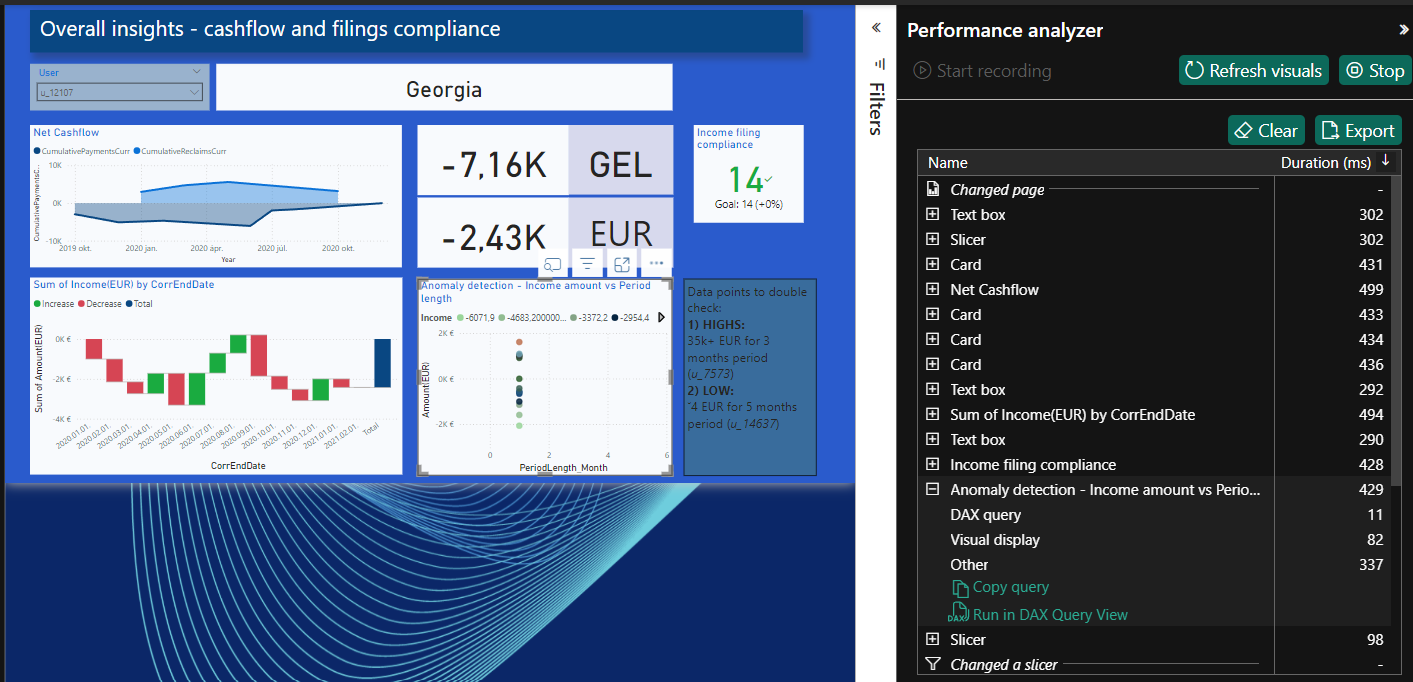

This screenshot's page, from the dashboard's own definition file:
{"tool":"powerbi","page":{"name":"Ins_User","canvas":[1280,720],"ordinal":4},"visuals":[{"type":"slicer","fields":{"Values":["DATA.UserName"]},"box":[38.6,89,270,70],"z":0},{"type":"card","fields":{"Values":["Calculations.Cashflow"]},"box":[621.6,181.4,227.9,105.4],"z":1000},{"type":"card","fields":{"Values":["Calculations.CashflowEUR"]},"box":[621.6,289.9,227.9,105.4],"z":2000},{"type":"kpi","title":"Income filing compliance","fields":{"Goal":["Calculations.PeriodLength_Month"],"TrendLine":["DATA.ReportedMonths"],"Indicator":["CountNonNull(DATA.UserName)"]},"box":[1037,181.4,165.9,147.3],"z":3000},{"type":"card","fields":{"Values":["Calculations.Selected_Country"]},"box":[318.6,89,687.1,70],"z":4000},{"type":"waterfallChart","title":"Sum of Income(EUR) by CorrEndDate","fields":{"Y":["Sum(DATA.Amount(EUR))"],"Category":["DATA.CorrEndDate.Variation.Date Hierarchy.Year"]},"box":[38.1,410.8,561.1,296.4],"z":5000},{"type":"areaChart","title":"Net Cashflow","fields":{"Category":["DATA.StartDate.Variation.Date Hierarchy.Year","DATA.StartDate.Variation.Date Hierarchy.Quarter","DATA.StartDate.Variation.Date Hierarchy.Month","DATA.StartDate.Variation.Date Hierarchy.Day"],"Y":["Calculations.CumulativeVATPayments","Calculations.CumulativeVATReclaims"]},"box":[38.6,181.4,560,214.3],"z":6000},{"type":"card","fields":{"Values":["Calculations.Selected_Currency"]},"box":[849.1,181,157.8,104.8],"z":7000},{"type":"textbox","box":[38.6,7.1,1164.3,64.3],"z":8000},{"type":"textbox","box":[849.1,290.1,157.8,105.9],"z":9000},{"type":"scatterChart","title":"Anomaly detection - Income amount vs Period length","fields":{"X":["Calculations.PeriodLength_Month"],"Y":["DATA.Amount(EUR)"],"Series":["DATA.Income"]},"box":[621.4,413.2,384.3,297.1],"z":10000},{"type":"textbox","box":[1021.4,412.9,200,297.1],"z":11000}]}

Visuals, with their boxes on the page's 1280x720 design canvas (x1, y1, x2, y2). These are canvas units, not pixel positions in the 1413x682 screenshot, which may show the page scaled, cropped or inside an application window:
slicer - DATA.UserName: 39/89/309/159
card - Calculations.Cashflow: 622/181/850/287
card - Calculations.CashflowEUR: 622/290/850/395
"Income filing compliance" kpi: 1037/181/1203/329
card - Calculations.Selected_Country: 319/89/1006/159
"Sum of Income(EUR) by CorrEndDate" waterfallChart: 38/411/599/707
"Net Cashflow" areaChart: 39/181/599/396
card - Calculations.Selected_Currency: 849/181/1007/286
textbox: 39/7/1203/71
textbox: 849/290/1007/396
"Anomaly detection - Income amount vs Period length" scatterChart: 621/413/1006/710
textbox: 1021/413/1221/710
